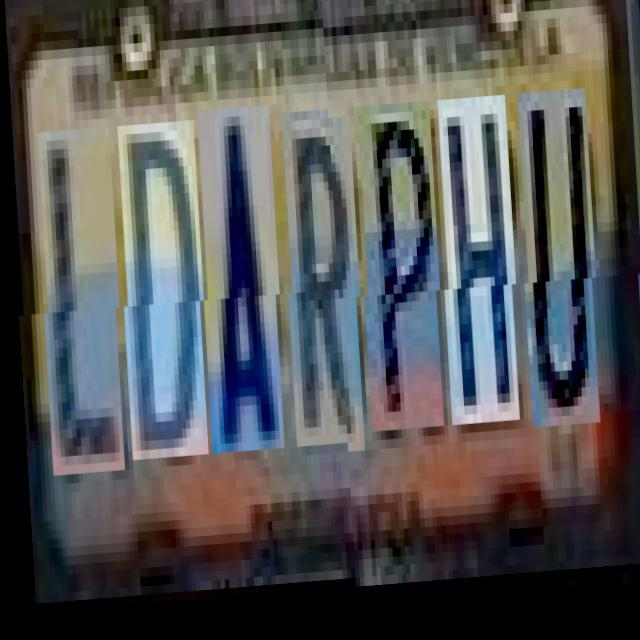A: (196, 118, 284, 466)
D: (116, 132, 208, 470)
H: (436, 104, 518, 432)
L: (36, 138, 124, 485)
P: (356, 109, 443, 438)
R: (281, 122, 364, 460)
U: (516, 98, 598, 436)
